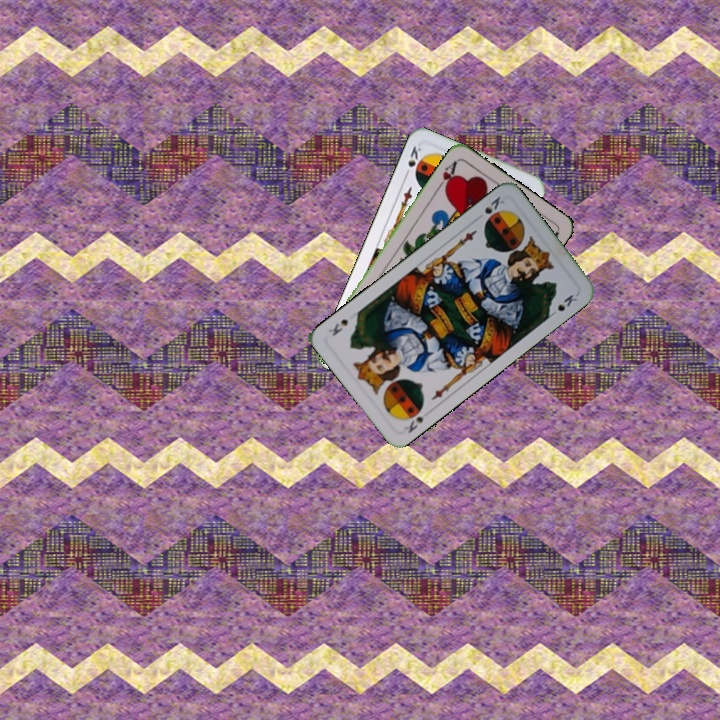HA: (433, 157, 460, 194)
SK: (472, 192, 507, 223), (401, 142, 424, 180), (400, 412, 427, 436)
